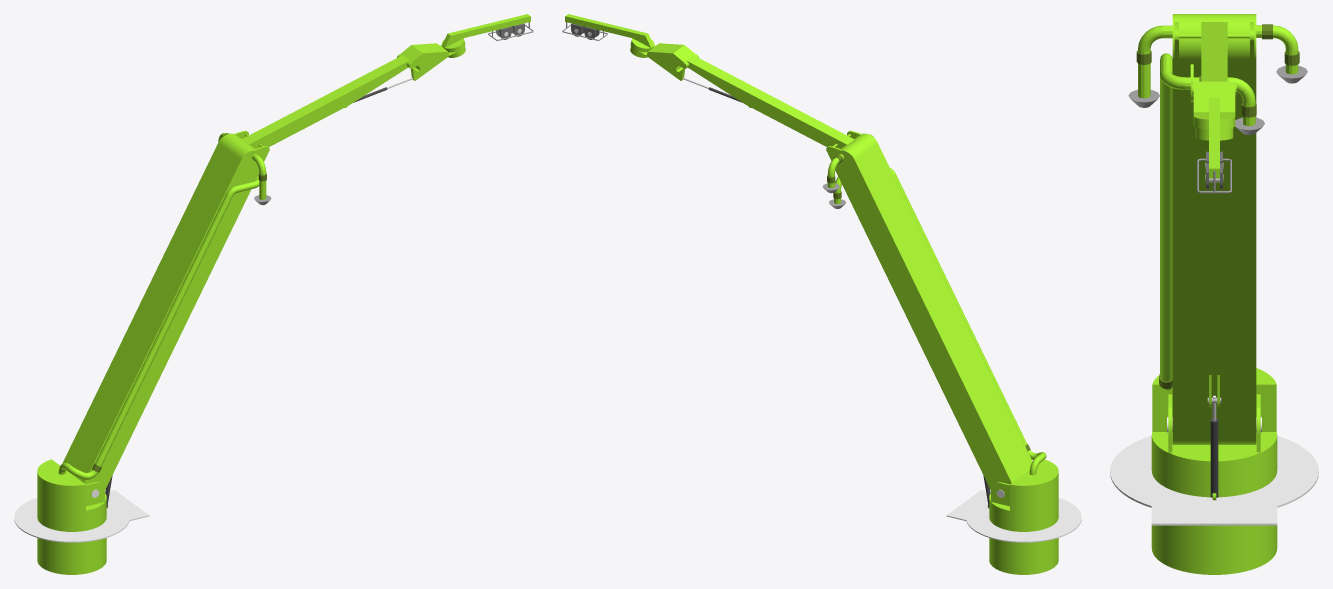
File: Crane Baru Detail.obj
3 views of the same model, side by side, from view 1: azimuth 30°, elevation 25°; view 2: azimuth 150°, elevation 25°; view 3: azimuth 270°, elevation 25° (orthographic). The views are drawn at different scales.
Parts seen in each view (by area): view 1: Mesh5 Group7 Group6 Group5 Group1 Model, Mesh1 Group2 Group1 Model, Mesh24 Group5 Group1 Model, Mesh2 Group3 Group1 Model, Mesh33 Group30 Group28 Model, Mesh28 Group5 Group1 Model, Mesh11 Group9 Group5 Group1 Model; view 2: Mesh5 Group7 Group6 Group5 Group1 Model, Mesh1 Group2 Group1 Model, Mesh24 Group5 Group1 Model, Mesh2 Group3 Group1 Model, Mesh33 Group30 Group28 Model, Mesh28 Group5 Group1 Model, Mesh11 Group9 Group5 Group1 Model; view 3: Mesh5 Group7 Group6 Group5 Group1 Model, Mesh1 Group2 Group1 Model, Mesh2 Group3 Group1 Model, Mesh33 Group30 Group28 Model, Mesh24 Group5 Group1 Model, Mesh11 Group9 Group5 Group1 Model, Mesh35 Group31 Model, Mesh37 Group33 Model, Mesh28 Group5 Group1 Model, Mesh26 Group5 Group1 Model, Mesh45 Group43 Model, Mesh40 Group37 Group35 Model (+5 smaller).
Boxes of the visible parts, x1,y1,x2,y2 form: Mesh5 Group7 Group6 Group5 Group1 Model: (62, 133, 263, 489); Mesh1 Group2 Group1 Model: (37, 459, 106, 574); Mesh24 Group5 Group1 Model: (241, 55, 409, 148); Mesh2 Group3 Group1 Model: (14, 490, 149, 542); Mesh33 Group30 Group28 Model: (92, 189, 234, 472); Mesh28 Group5 Group1 Model: (442, 14, 530, 47); Mesh11 Group9 Group5 Group1 Model: (399, 43, 449, 70); Mesh5 Group7 Group6 Group5 Group1 Model: (832, 133, 1032, 489); Mesh1 Group2 Group1 Model: (989, 459, 1058, 574); Mesh24 Group5 Group1 Model: (686, 55, 854, 148); Mesh2 Group3 Group1 Model: (946, 490, 1081, 542); Mesh33 Group30 Group28 Model: (891, 170, 1030, 451); Mesh28 Group5 Group1 Model: (565, 14, 653, 47); Mesh11 Group9 Group5 Group1 Model: (646, 43, 696, 70); Mesh5 Group7 Group6 Group5 Group1 Model: (1172, 14, 1256, 444); Mesh1 Group2 Group1 Model: (1151, 368, 1277, 574); Mesh2 Group3 Group1 Model: (1110, 436, 1318, 525); Mesh33 Group30 Group28 Model: (1159, 76, 1172, 388); Mesh24 Group5 Group1 Model: (1201, 22, 1227, 81); Mesh11 Group9 Group5 Group1 Model: (1193, 81, 1235, 115); Mesh35 Group31 Model: (1136, 25, 1172, 98); Mesh37 Group33 Model: (1256, 24, 1299, 74); Mesh28 Group5 Group1 Model: (1209, 98, 1219, 178); Mesh26 Group5 Group1 Model: (1193, 112, 1235, 140); Mesh45 Group43 Model: (1210, 395, 1218, 497); Mesh40 Group37 Group35 Model: (1230, 77, 1256, 126).
Bounding box in the file's own units: 1901 × 1551 × 375.
